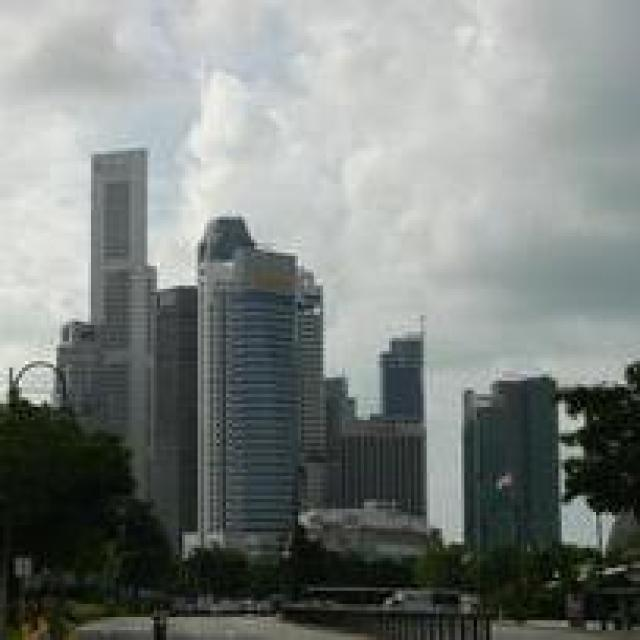building: (59, 145, 428, 589), (459, 372, 563, 584)
